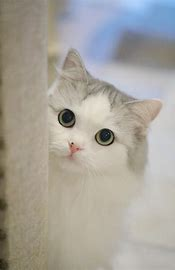cat: (46, 47, 163, 188)
